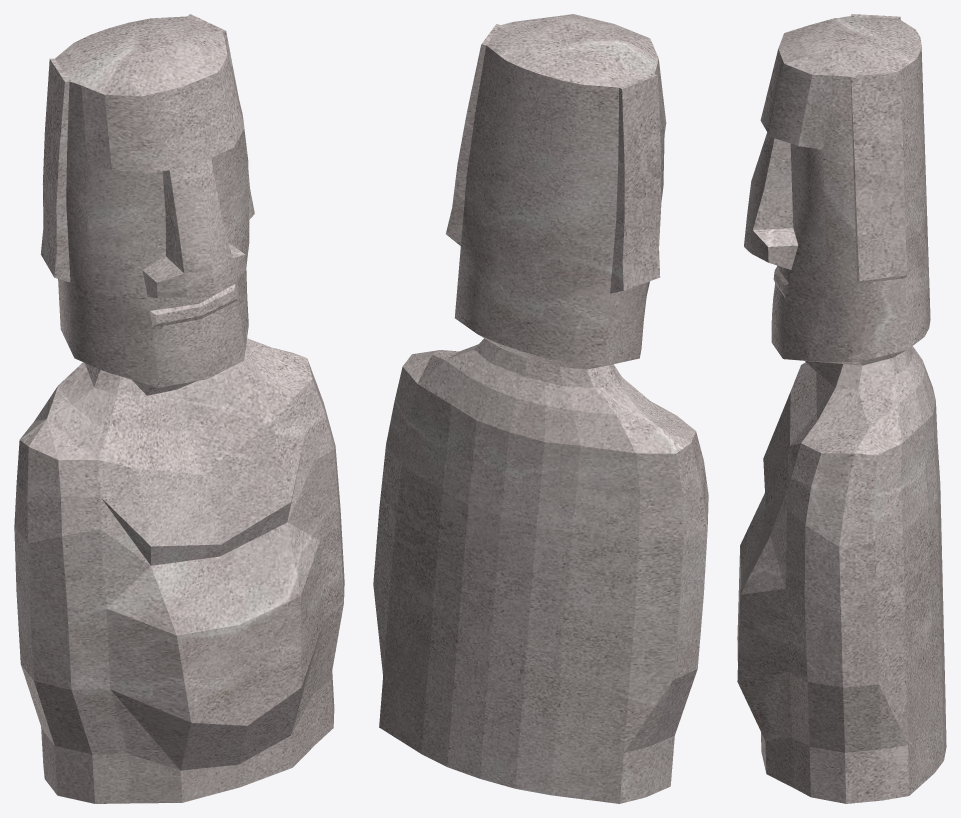
Rendered from moai-med-stone.glb.
3 renders of one model, left to right at view 1: azimuth 30°, elevation 25°; view 2: azimuth 150°, elevation 25°; view 3: azimuth 270°, elevation 25°, orthographic. The views are drawn at different scales.
Parts seen in each view (by area): view 1: Cylinder005__0_n3d; view 2: Cylinder005__0_n3d; view 3: Cylinder005__0_n3d.
Boxes of the visible parts, left/top/right/bottom form: Cylinder005__0_n3d: left=14, top=14, right=344, bottom=803; Cylinder005__0_n3d: left=373, top=14, right=708, bottom=803; Cylinder005__0_n3d: left=737, top=14, right=946, bottom=803.
Size of the model in its own units: 0.7489 by 1.64 by 0.4411.
1 material, 1 textured.
